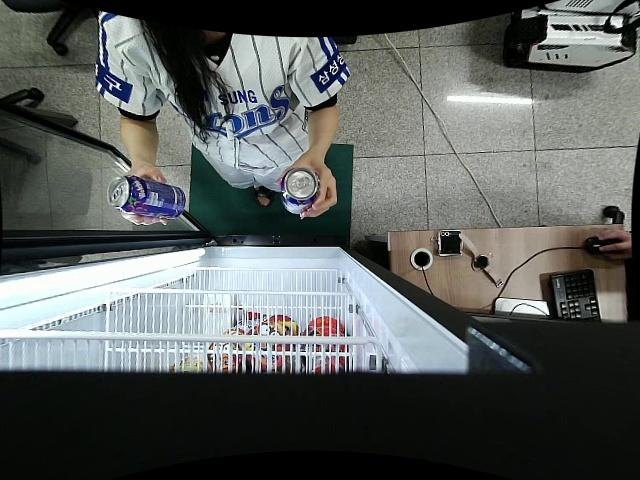00_hand: (272, 152, 338, 219), (121, 165, 172, 227)
14_welchsGrape: (107, 175, 186, 220), (281, 167, 320, 217)
